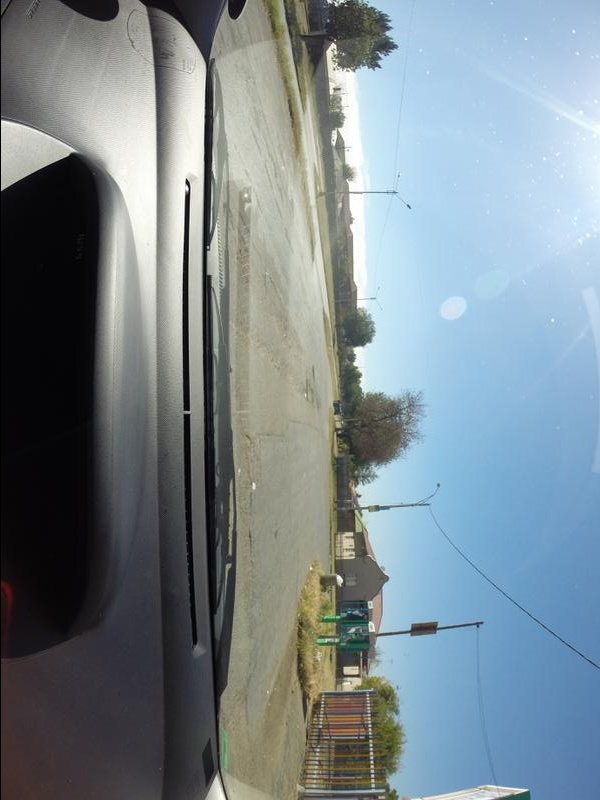pothole: (266, 278, 283, 310), (245, 440, 258, 469), (248, 529, 256, 558), (304, 379, 309, 403), (310, 366, 317, 382), (272, 528, 280, 541)
